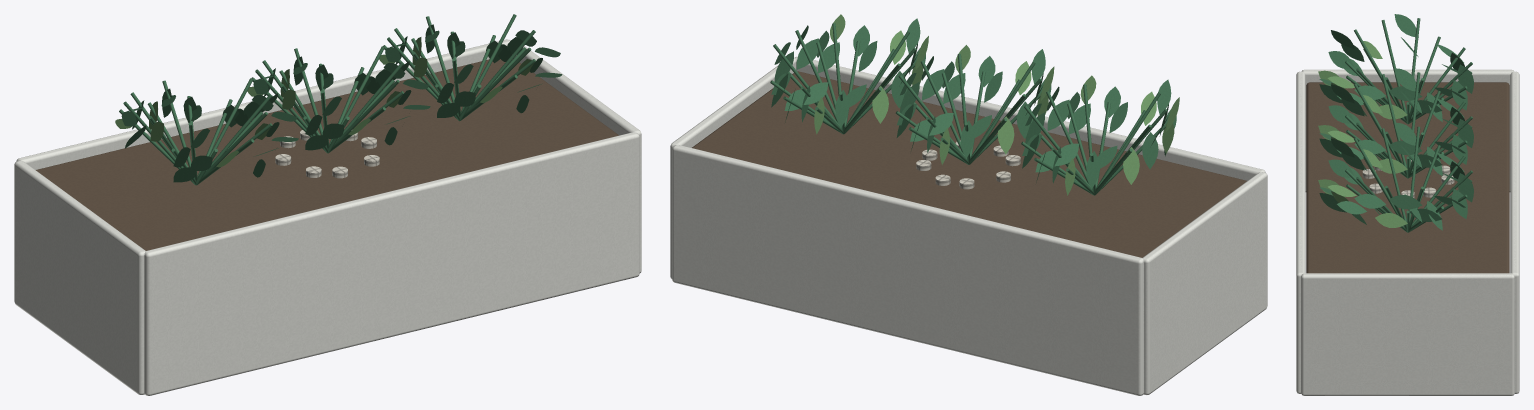
File: detail-plant-box-0.glb
The picture shows the model from 3 angles, left to right: view 1: azimuth 30°, elevation 25°; view 2: azimuth 150°, elevation 25°; view 3: azimuth 270°, elevation 25°; orthographic projection. The views are drawn at different scales.
Visible parts, largest first — view 1: pot_wall (×4), soil_surface; view 2: pot_wall (×4), soil_surface; view 3: pot_wall (×4), soil_surface, leaf_blade (×31), plant_stem (×12).
Boxes of the visible parts, box(x1,y1,x2,y2) form: pot_wall (×4): box(14, 39, 641, 395); soil_surface: box(36, 59, 618, 250); pot_wall (×4): box(670, 56, 1267, 395); soil_surface: box(692, 71, 1246, 257); pot_wall (×4): box(1296, 69, 1519, 395); soil_surface: box(1306, 82, 1509, 273); leaf_blade (×31): box(1319, 14, 1473, 227); plant_stem (×12): box(1354, 18, 1465, 225).
Size of the model in its own units: 1.84 by 0.8142 by 0.835.
5 materials, 5 textured.
